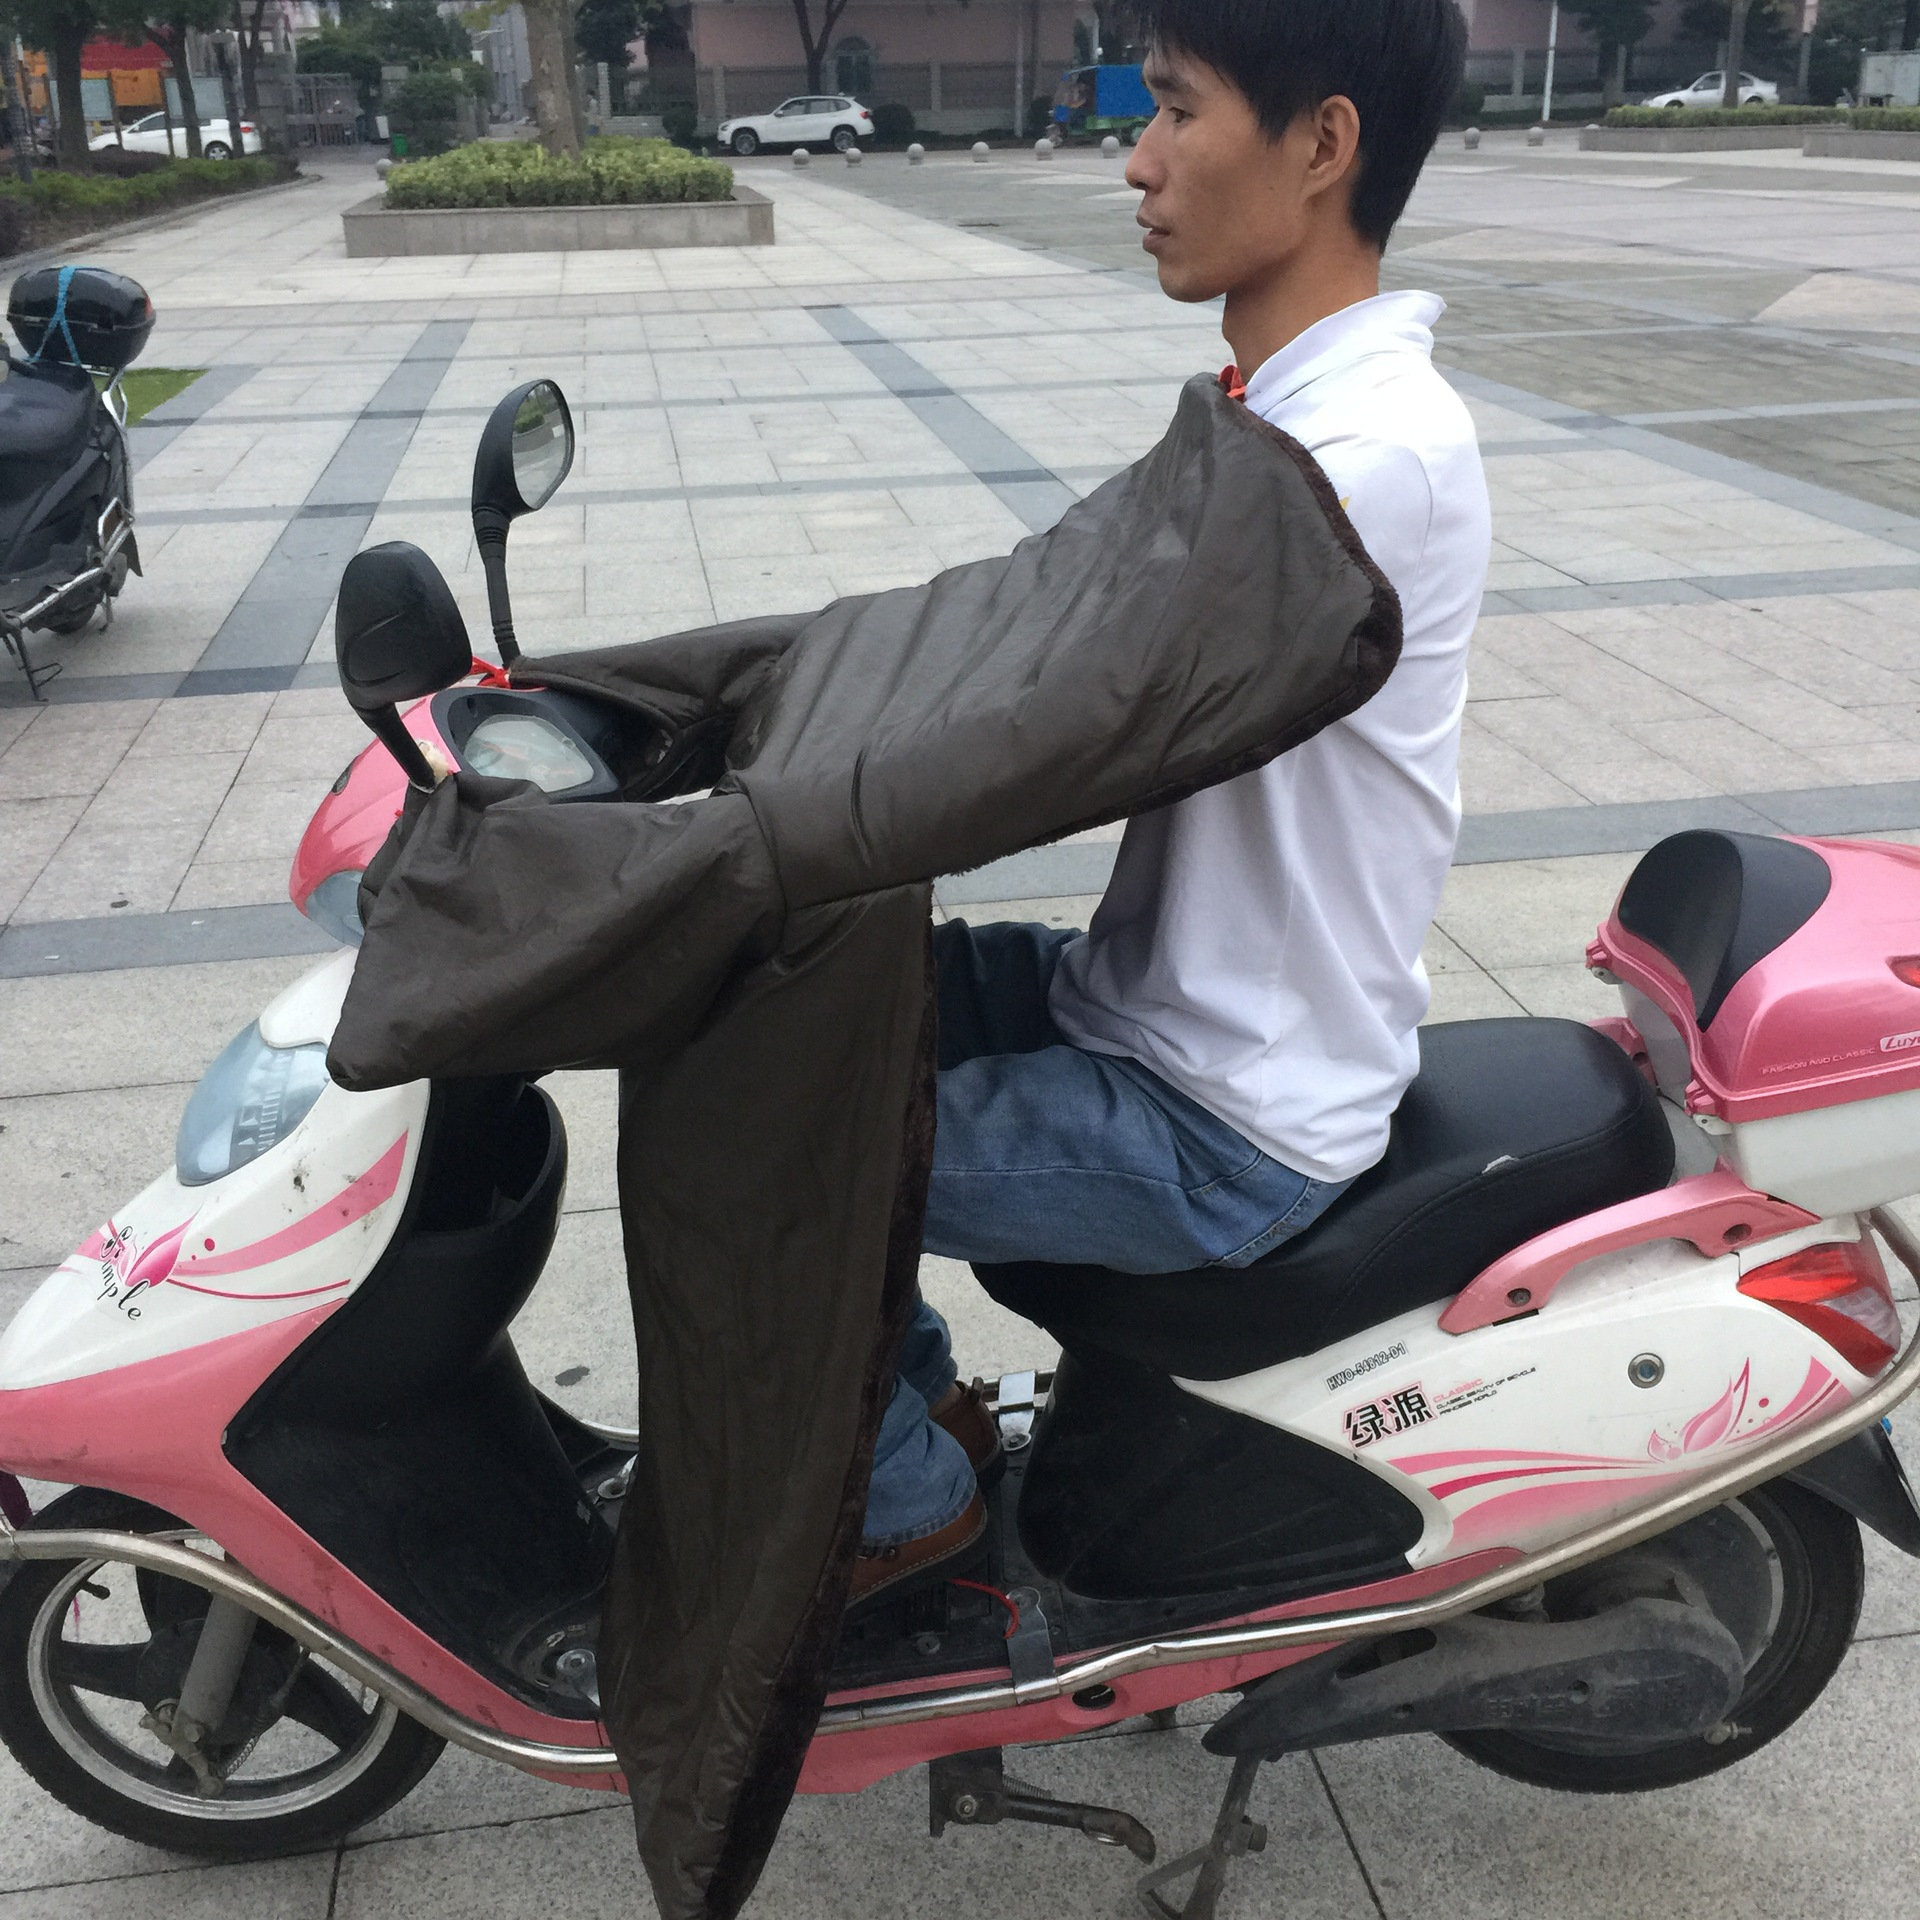电动车: (2, 375, 1915, 1909)
